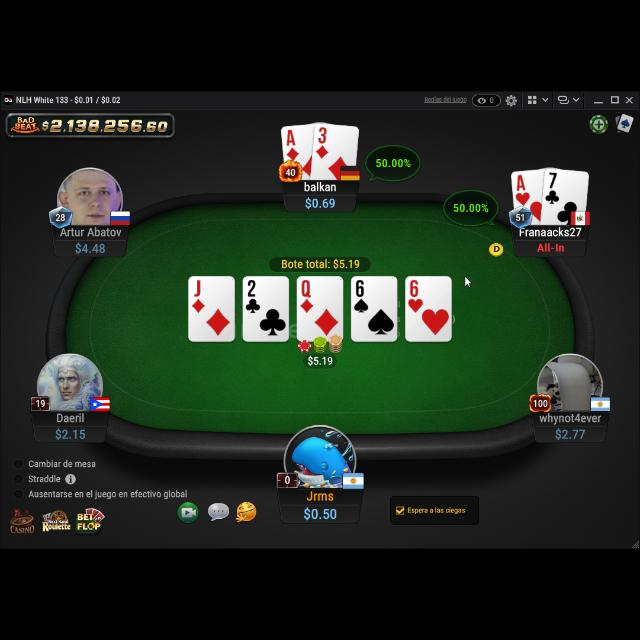2c: (244, 278, 262, 314)
3d: (314, 126, 330, 160)
6h: (407, 278, 423, 314)
6s: (352, 278, 370, 316)
7c: (544, 172, 560, 206)
Ad: (285, 128, 301, 162)
Ah: (514, 174, 532, 208)
Jd: (192, 279, 208, 315)
Qd: (298, 279, 316, 315)
all_in_symbol: (536, 241, 566, 253)
dealer: (486, 240, 506, 258)
pot_text: (280, 258, 360, 272)
stack_text: (303, 506, 339, 522), (73, 240, 107, 256), (304, 196, 338, 210), (54, 427, 88, 441), (554, 427, 586, 441)
